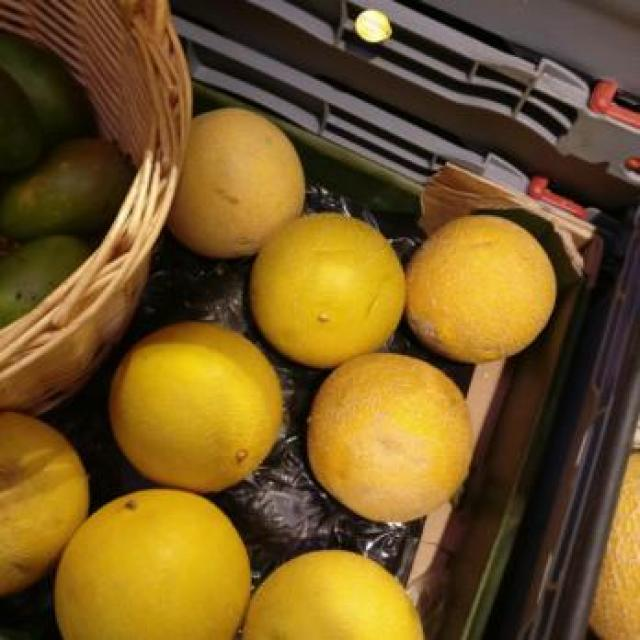Galia: (110, 322, 282, 493), (57, 489, 252, 638), (307, 359, 471, 522), (250, 212, 407, 370), (408, 215, 558, 362), (167, 109, 307, 250), (0, 407, 85, 592), (241, 552, 423, 638)
